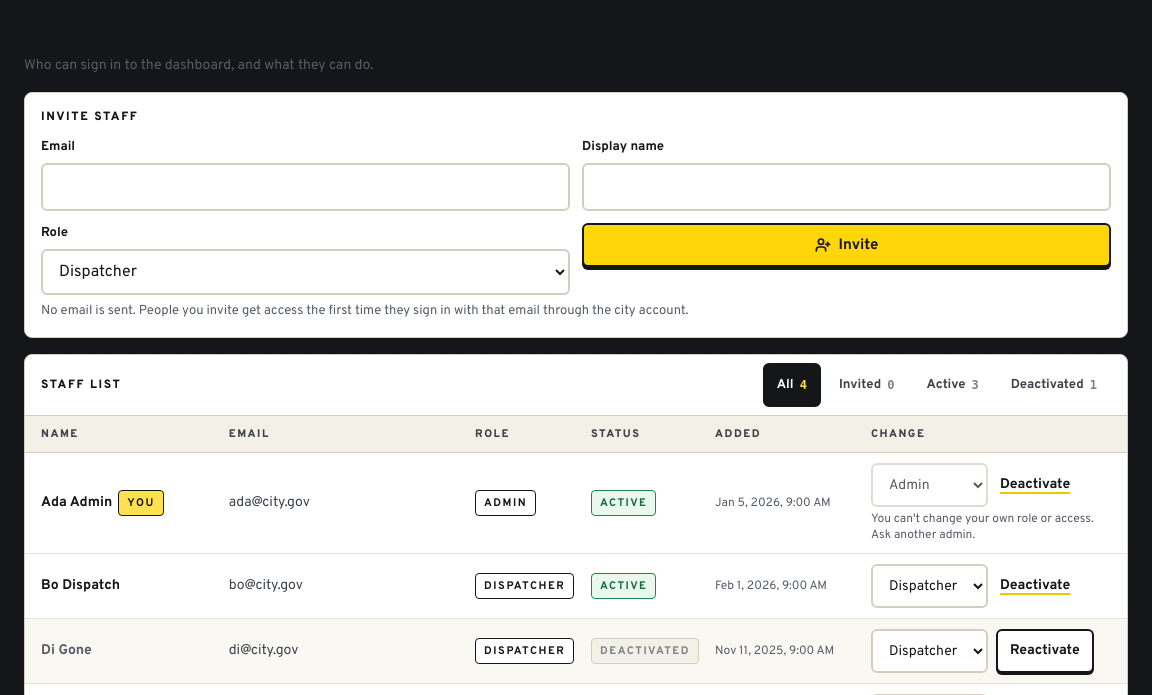
Test: staff list › shows an empty filter state
The image size is (1152, 695).
Expected: the list item "Bo Dispatch" is shown, [25,553,1127,618]
Click the button "Invited 0" at (867, 385), box [825,363,908,407]
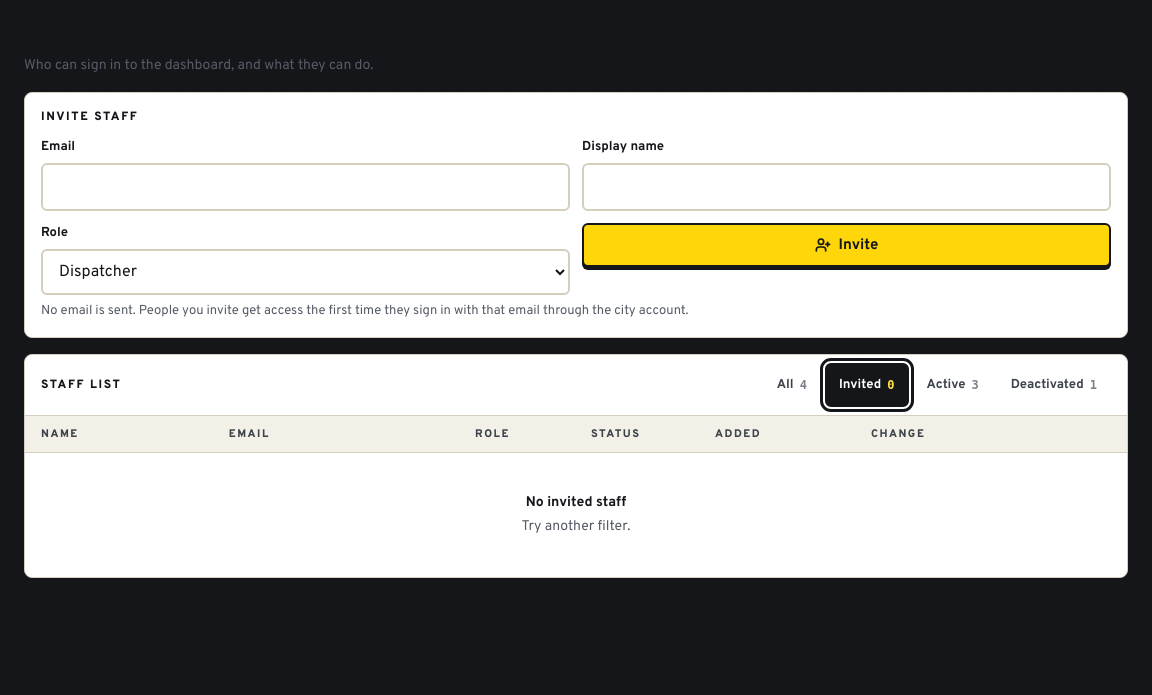
Now the text "No invited staff" is shown, box [526,494,626,511]
